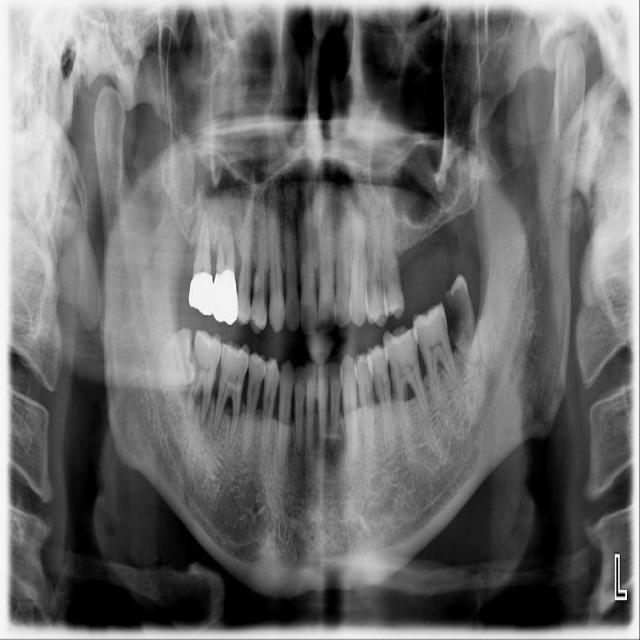Caries: (444, 287, 472, 339)
Crown: (188, 269, 237, 325)
Missing teeth: (398, 220, 464, 303)
impacted tooth: (154, 327, 198, 391)
